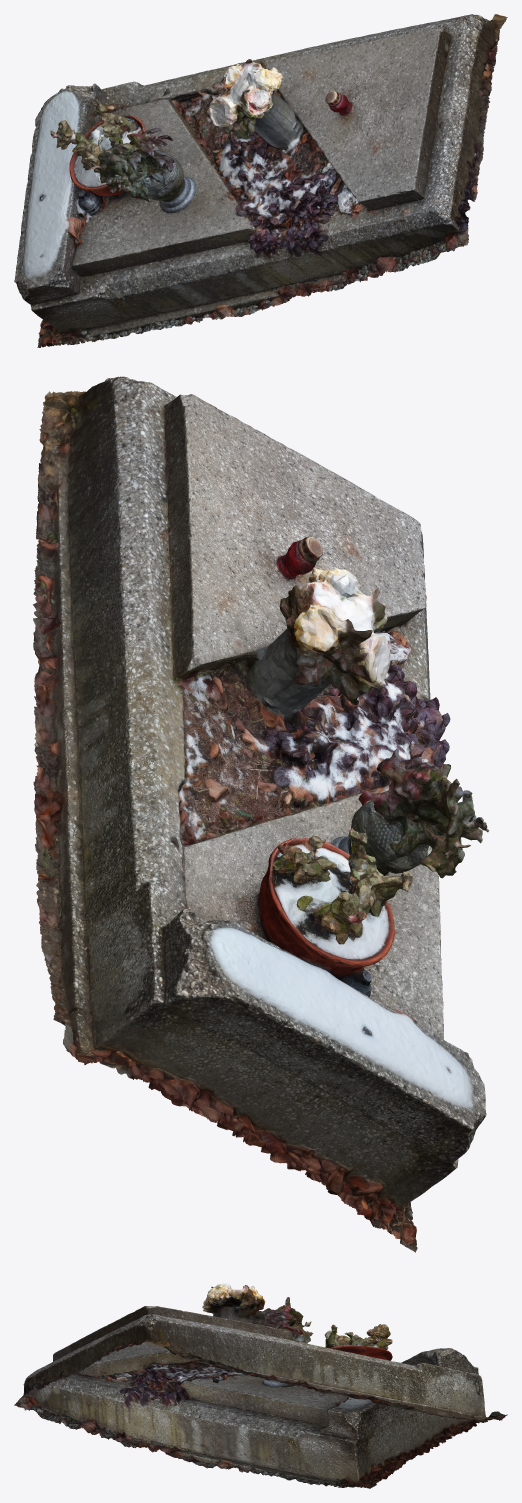
The model's file is grave.fbx.
The picture shows the model from 3 angles, top to bottom: view 1: azimuth 30°, elevation 25°; view 2: azimuth 150°, elevation 25°; view 3: azimuth 270°, elevation 25°; orthographic projection. The views are drawn at different scales.
Parts seen in each view (by area): view 1: Model; view 2: Model; view 3: Model.
Part boxes in pixels (x1,y1,x2,y2): Model: (14, 14, 507, 347); Model: (33, 376, 489, 1252); Model: (14, 1282, 507, 1488).
Bounding box in the file's own units: 12.22 × 16.72 × 11.05.
7 materials, 7 textured.
